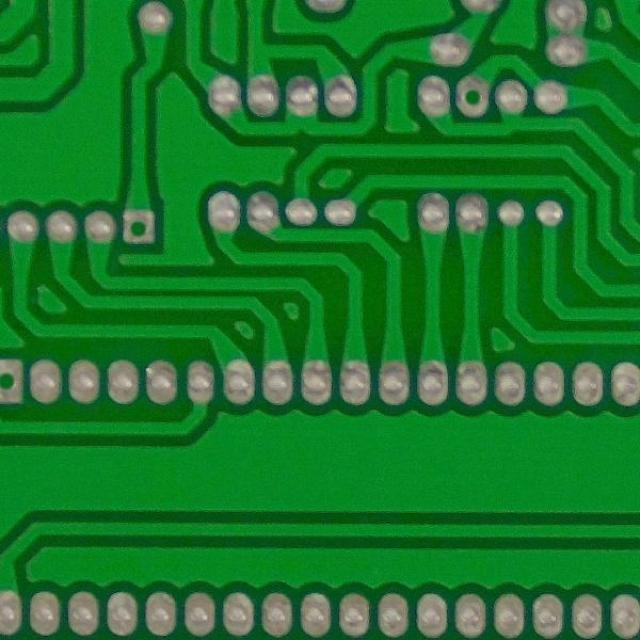Missing_Hole: (449, 72, 496, 120), (119, 205, 159, 248), (0, 356, 29, 409)
